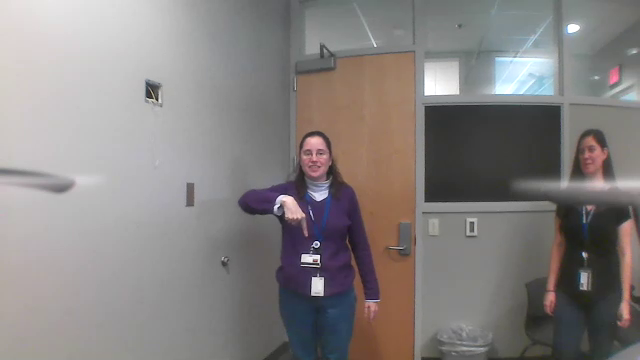down: (277, 193, 314, 245)
